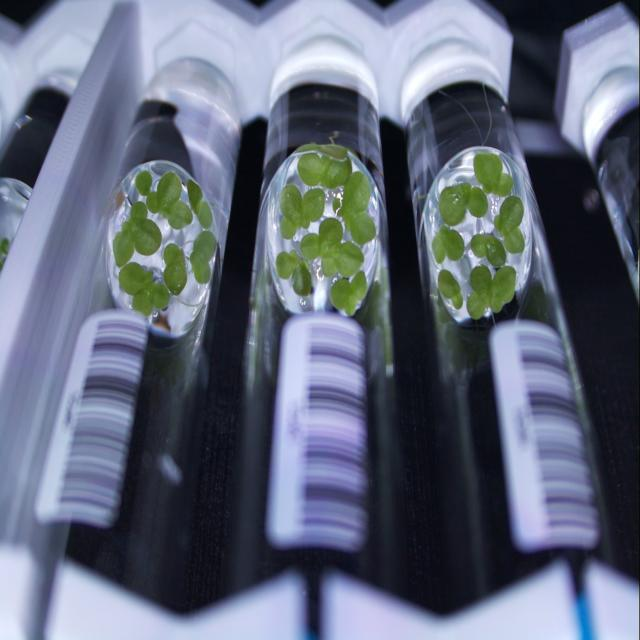Lemna-Gibba: (300, 217, 364, 278), (112, 202, 161, 267), (119, 262, 170, 317), (466, 265, 516, 319), (146, 172, 192, 228), (279, 183, 325, 238), (296, 143, 351, 188), (439, 183, 488, 225), (494, 195, 525, 254), (474, 153, 514, 197), (276, 250, 312, 297), (330, 272, 368, 315), (190, 230, 216, 284), (341, 172, 371, 217), (470, 233, 506, 269), (186, 180, 212, 228), (164, 243, 188, 295), (432, 225, 465, 261), (345, 212, 376, 245), (438, 270, 462, 309), (135, 170, 152, 195), (332, 197, 341, 213)
